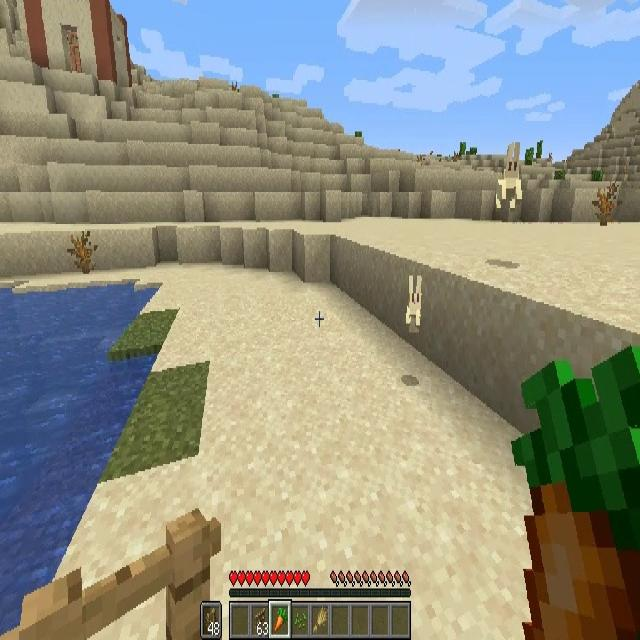rabbit: (495, 140, 523, 210), (405, 274, 423, 325)
